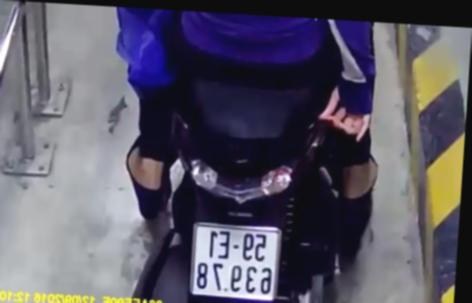License_Plate: (181, 218, 290, 300)
